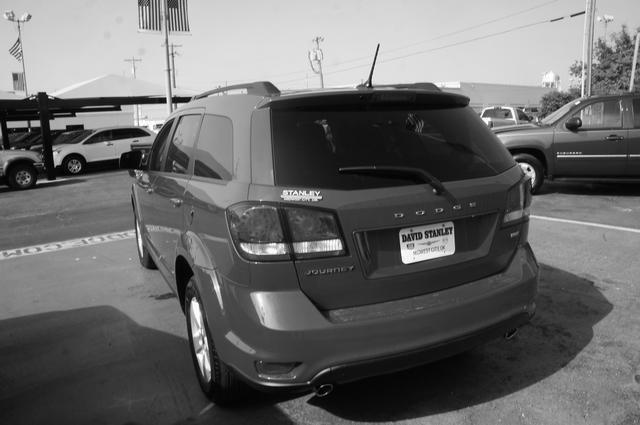car: (131, 82, 540, 406)
